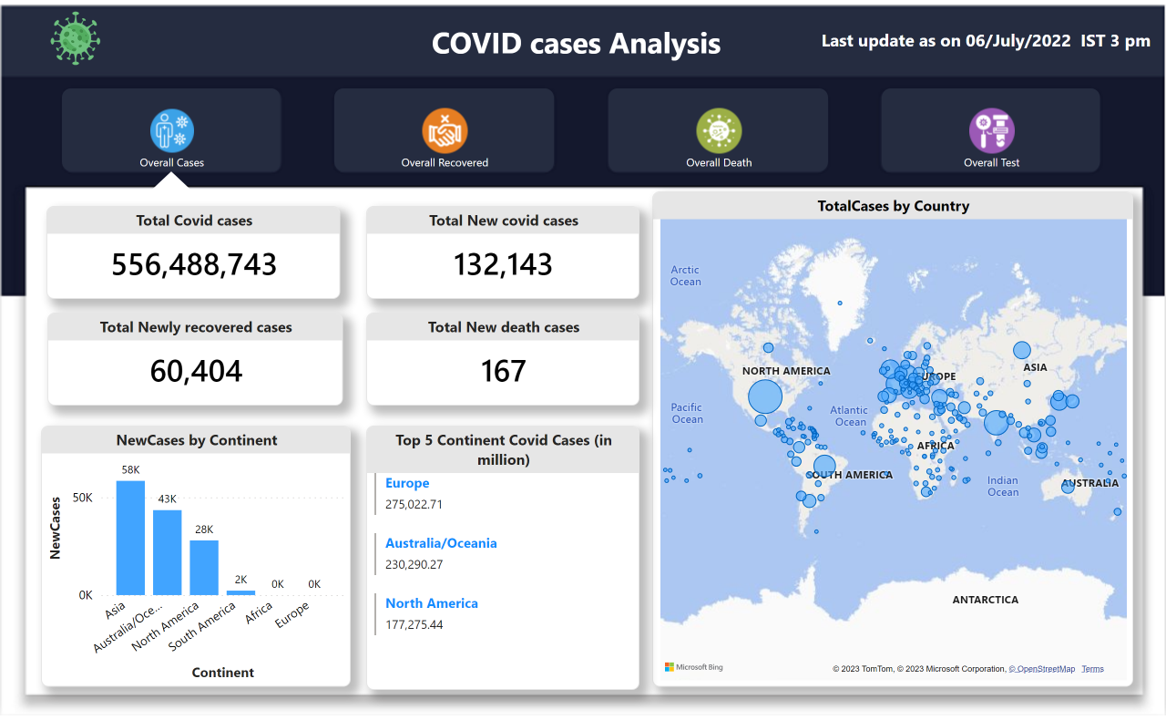

What the dashboard file says about the page in this screenshot:
{"tool":"powerbi","page":{"name":"Overall Cases","canvas":[1280,780],"ordinal":0},"visuals":[{"type":"textbox","box":[469.2,14.2,341.6,59.5],"z":0},{"type":"actionButton","box":[68,92.1,239.6,90.7],"z":1000},{"type":"actionButton","box":[367.1,92.1,241,90.7],"z":2000},{"type":"actionButton","box":[667.6,91.7,241,90.7],"z":3000},{"type":"actionButton","box":[968.2,91.7,239.6,90.7],"z":4000},{"type":"shape","box":[164.4,182.9,48.2,22.7],"z":5000},{"type":"clusteredColumnChart","fields":{"Category":["Covid_Data.Continent"],"Y":["Sum(Covid_Data.NewCases)"]},"box":[44.9,462.3,339.8,286.4],"z":6000},{"type":"map","fields":{"Category":["Covid_Data.Country"],"Size":["Sum(Covid_Data.TotalCases)"]},"box":[715.9,205.3,527.9,543.4],"z":7000},{"type":"multiRowCard","title":"Top 5 Continent Covid Cases (in million)","fields":{"Values":["Calculated Measure.Overall Cases","Covid_Data.Continent"]},"box":[401.9,462.3,300.2,289.8],"z":8000},{"type":"card","title":"Total New covid cases","fields":{"Values":["Sum(Covid_Data.NewCases)"]},"box":[401.9,220.8,300.2,101.8],"z":9000},{"type":"card","title":"Total Covid cases","fields":{"Values":["Sum(Covid_Data.TotalCases)"]},"box":[51.4,220.8,322.6,101.8],"z":10000},{"type":"card","title":"Total New death cases","fields":{"Values":["Sum(Covid_Data.NewDeaths)"]},"box":[401.9,338.1,300.2,101.8],"z":11000},{"type":"card","title":"Total Newly recovered cases","fields":{"Values":["Sum(Covid_Data.NewRecovered)"]},"box":[51.8,338.1,324.3,101.8],"z":12000},{"type":"textbox","box":[874.6,20.7,393.3,46.6],"z":13000},{"type":"image","box":[0,0,165.6,74.2],"z":14000}]}

Visuals, with their boxes in screenshot pixels (x1, y1, x2, y2), scaled from the page's 1280x780 canvas onto the 1166x720 screenshot:
textbox: 427/13/739/68
actionButton: 62/85/280/169
actionButton: 334/85/554/169
actionButton: 608/85/828/168
actionButton: 882/85/1100/168
shape: 150/169/194/190
clusteredColumnChart - Covid_Data.Continent x Sum(Covid_Data.NewCases): 41/427/350/691
map - Covid_Data.Country x Sum(Covid_Data.TotalCases): 652/190/1133/691
"Top 5 Continent Covid Cases (in million)" multiRowCard: 366/427/640/694
"Total New covid cases" card: 366/204/640/298
"Total Covid cases" card: 47/204/341/298
"Total New death cases" card: 366/312/640/406
"Total Newly recovered cases" card: 47/312/343/406
textbox: 797/19/1155/62
image: 0/0/151/68
